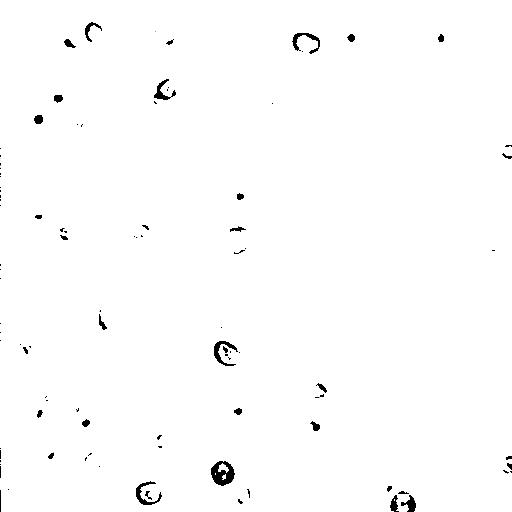micro-algae: (61, 382, 152, 472), (275, 425, 354, 502), (89, 67, 155, 132), (426, 1, 487, 60), (46, 182, 98, 239), (469, 86, 512, 137), (53, 298, 98, 346), (145, 385, 189, 430), (203, 43, 246, 88), (381, 1, 447, 28), (125, 403, 167, 443), (250, 348, 285, 385), (21, 100, 55, 136), (151, 17, 184, 54), (491, 421, 512, 474), (425, 21, 455, 58), (221, 224, 254, 257), (216, 395, 253, 423), (70, 410, 102, 442), (20, 196, 55, 225), (1, 482, 32, 512), (476, 22, 505, 53), (74, 114, 103, 143), (213, 340, 242, 368), (25, 400, 52, 430), (291, 30, 322, 56), (134, 480, 165, 506), (209, 460, 237, 488), (47, 85, 75, 111), (478, 234, 504, 260), (388, 488, 417, 511), (338, 24, 363, 50), (155, 77, 181, 102), (34, 439, 60, 464), (15, 338, 39, 364), (97, 303, 117, 333), (58, 30, 81, 55), (261, 92, 282, 116), (84, 20, 105, 43), (83, 451, 104, 473), (129, 220, 152, 240), (379, 478, 400, 499), (54, 226, 76, 246), (154, 430, 172, 452), (308, 381, 329, 399), (235, 484, 252, 506), (434, 70, 452, 88), (231, 191, 248, 205), (501, 143, 512, 160), (504, 454, 512, 471)
